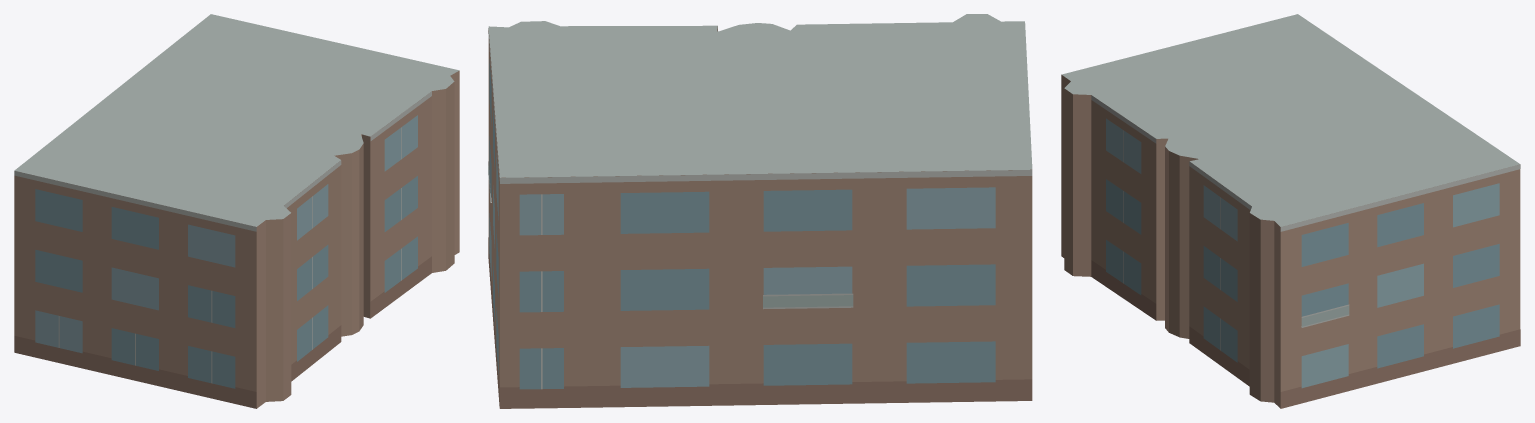
The model's file is survey-upis-33033286.glb.
3 renders of one model, left to right at view 1: azimuth 30°, elevation 25°; view 2: azimuth 150°, elevation 25°; view 3: azimuth 270°, elevation 25°, orthographic. The views are drawn at different scales.
Parts seen in each view (by area): view 1: survey-upis-33033286.tmp; view 2: survey-upis-33033286.tmp; view 3: survey-upis-33033286.tmp.
Part boxes in pixels (x1,y1,x2,y2): survey-upis-33033286.tmp: (14,14,459,408); survey-upis-33033286.tmp: (488,14,1032,408); survey-upis-33033286.tmp: (1061,14,1520,408).
Size of the model in its own units: 23 by 9.15 by 20.94.
